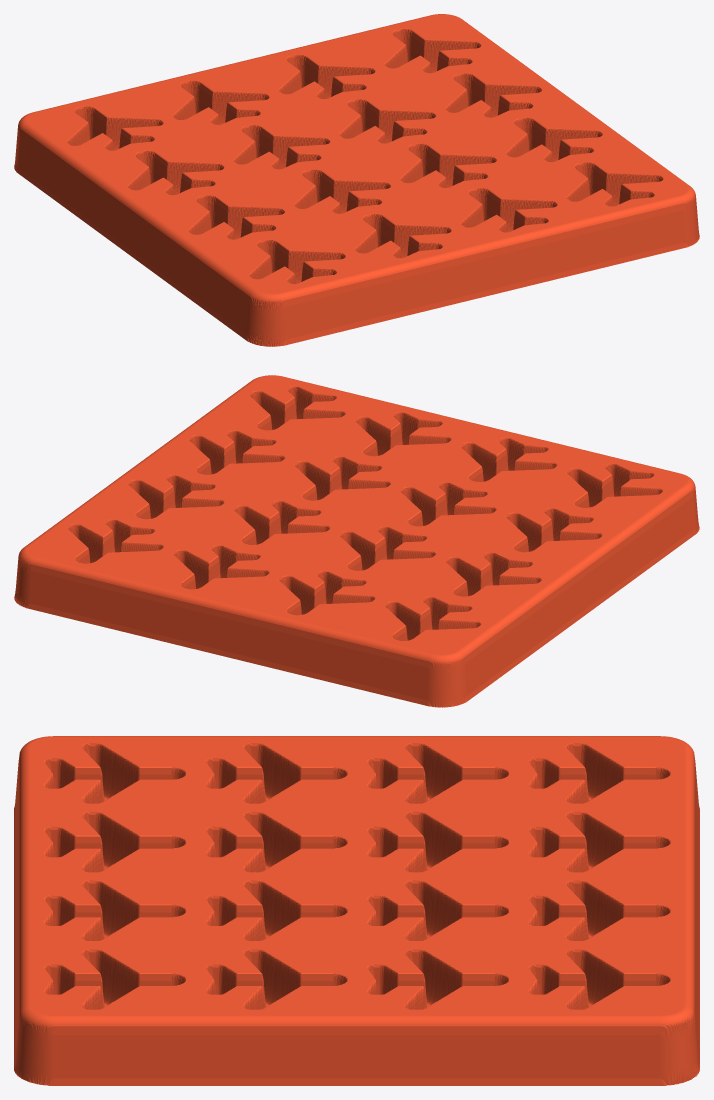
The model's file is mold.glb.
3 views of the same model, one above another, from view 1: azimuth 30°, elevation 25°; view 2: azimuth 150°, elevation 25°; view 3: azimuth 270°, elevation 25° (orthographic). The views are drawn at different scales.
Parts seen in each view (by area): view 1: geometry_0; view 2: geometry_0; view 3: geometry_0.
Boxes of the visible parts, bbox=[...] form: geometry_0: bbox=[14, 14, 699, 346]; geometry_0: bbox=[14, 375, 699, 707]; geometry_0: bbox=[14, 736, 699, 1085].
Size of the model in its own units: 0.1569 by 0.0159 by 0.1559.
